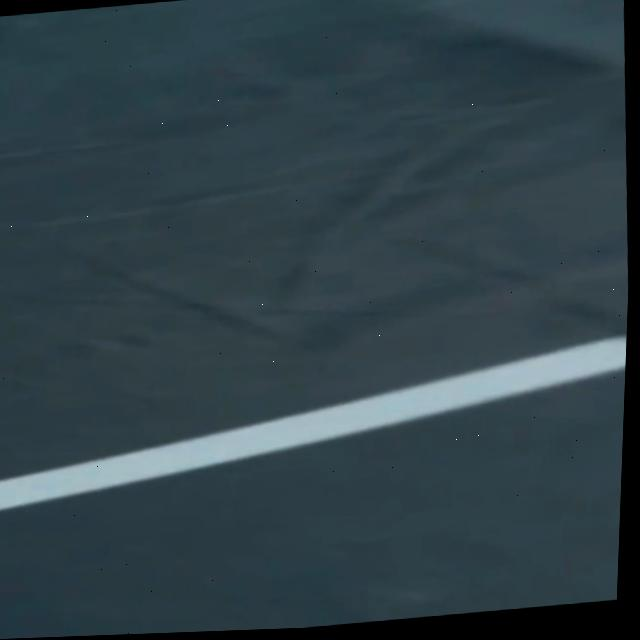center: (0, 336, 627, 510)
